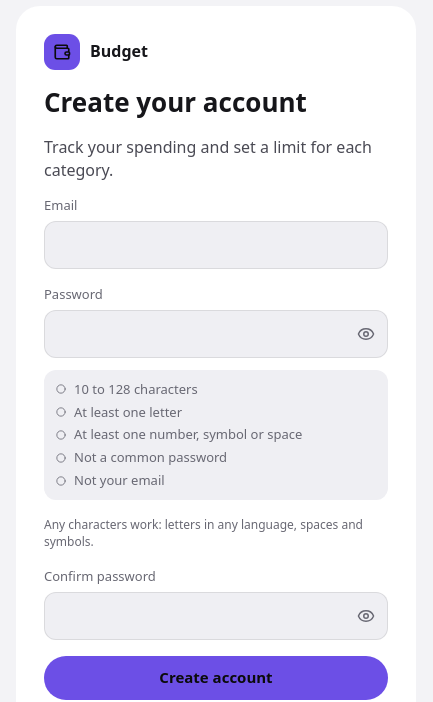
Test case: the two passwords must match
This screenshot has width=433, height=702.
Type "alice@example.com" into the field labelled "Email".
click(216, 245); type("alice@example.com")  # box [44, 221, 388, 269]
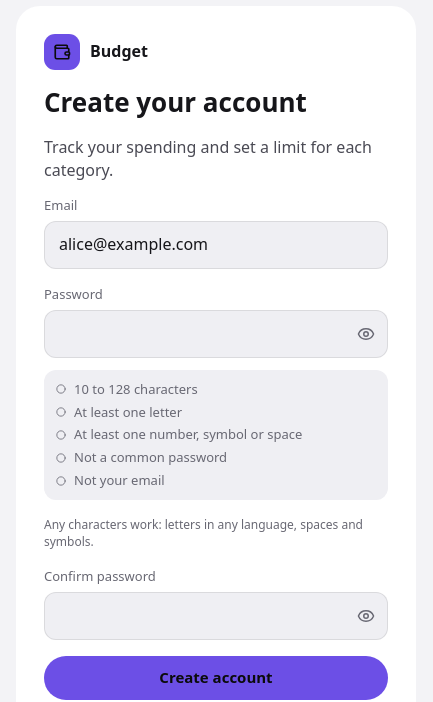
Type "correct horse battery" into the password field labelled "Password".
click(216, 334); type("correct horse battery")  # box [44, 310, 388, 358]
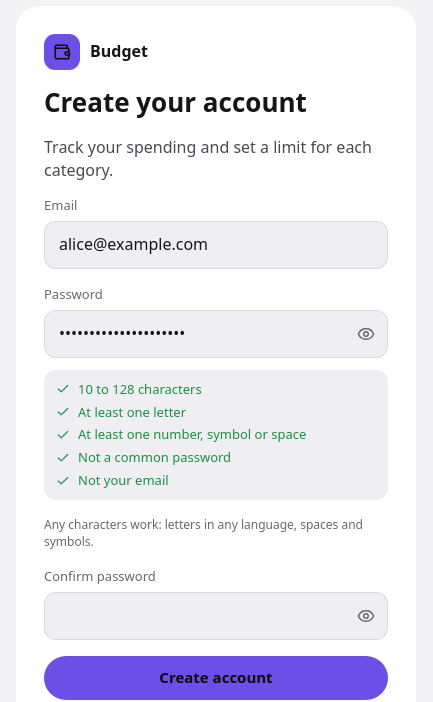
Type "correct horse batery" into the password field labelled "Confirm password".
click(216, 616); type("correct horse batery")  # box [44, 592, 388, 640]
(page scrolled)
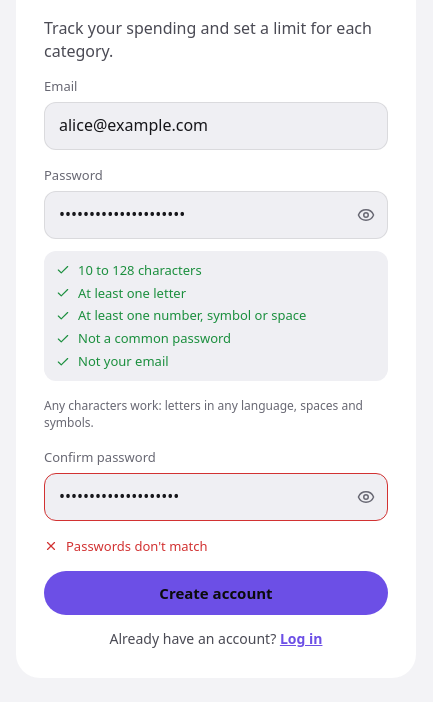
Expected: the text "Passwords don't match" is shown, [44, 537, 208, 555]
Click the button "Create account".
click(216, 593)  # box [44, 571, 388, 615]
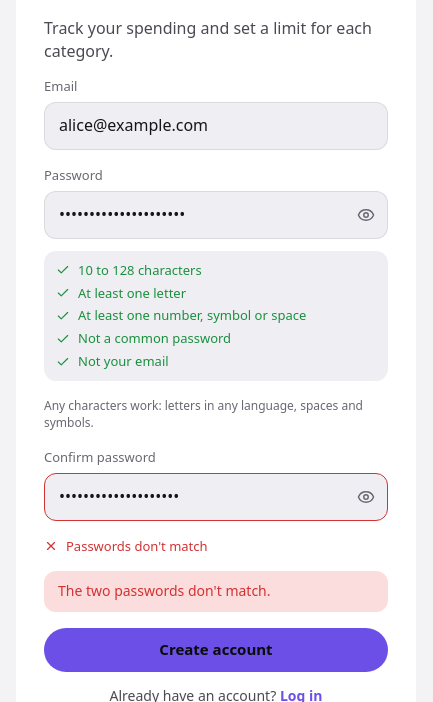
Expected: the message reads "The two passwords don't match.", [58, 581, 270, 600]
Type "correct horse battery" into the password field labelled "Confirm password".
click(216, 497); type("correct horse battery")  # box [44, 473, 388, 521]
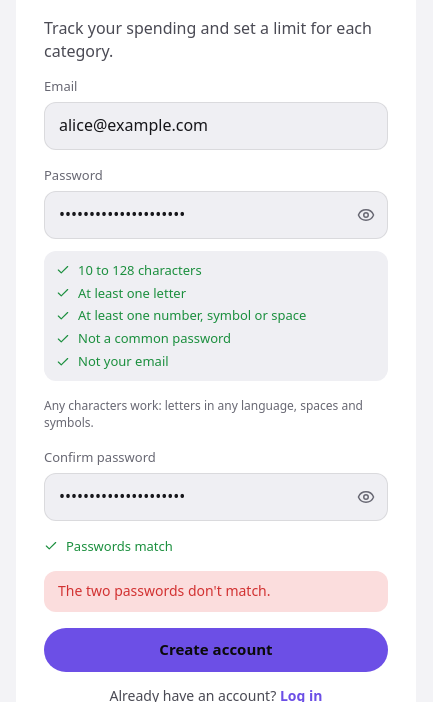
Expected: the text "Passwords match" is shown, [44, 537, 173, 555]
